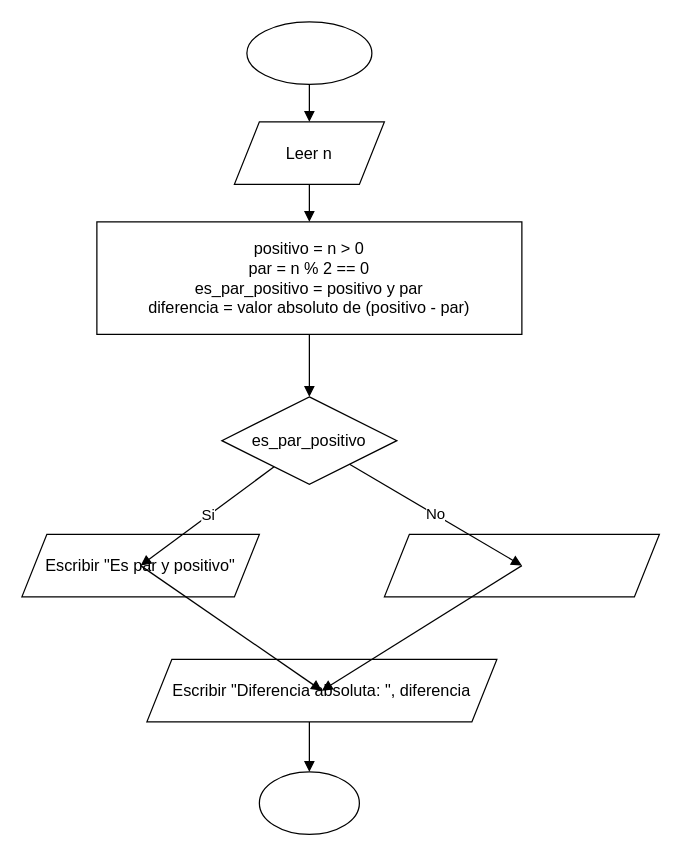
This 681x856 diagram has some shape labels left out. The shapes that lost their labels are listed below. From the top down, each one's centre as x and y in pixels, then its label:
(309,52): Inicio
(521,565): Escribir "No es par y positivo"
(308,802): Fin
